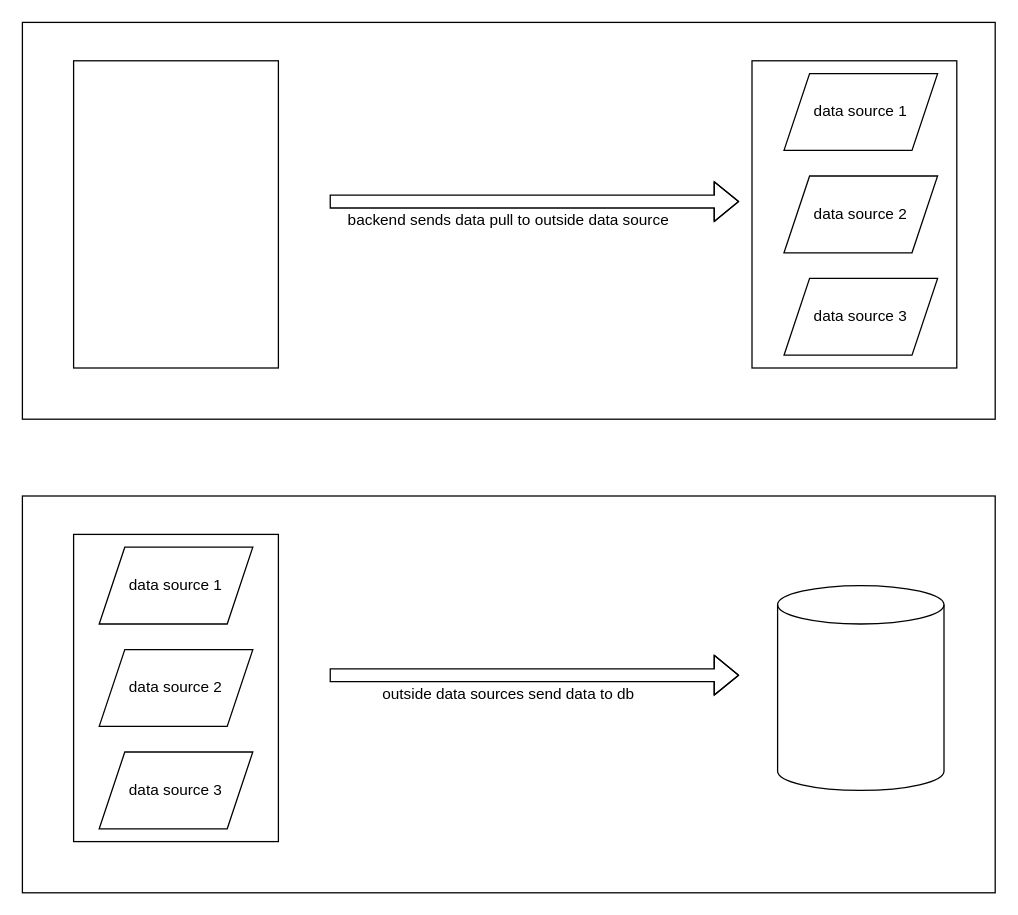
The diagram is 1018 pixels wide and 915 high, and some of its shapes have lost their labels. Each missing label, with the centre of its shape:
backend API: the point at 175,214
database: the point at 860,687
